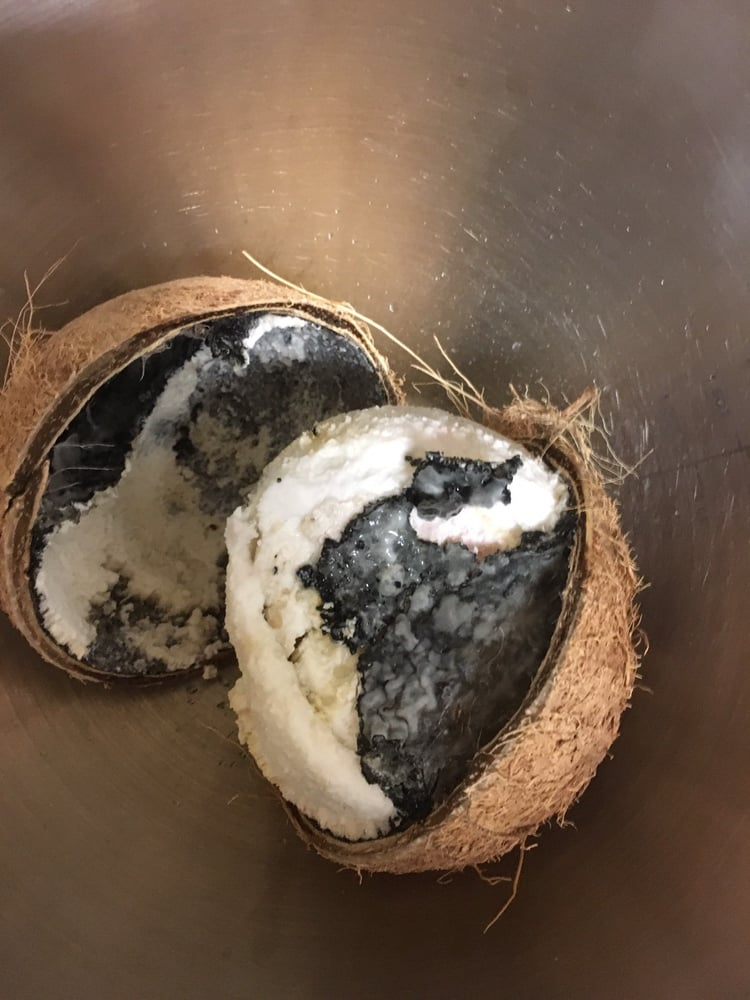damaged_coconut: (10, 282, 560, 852)
